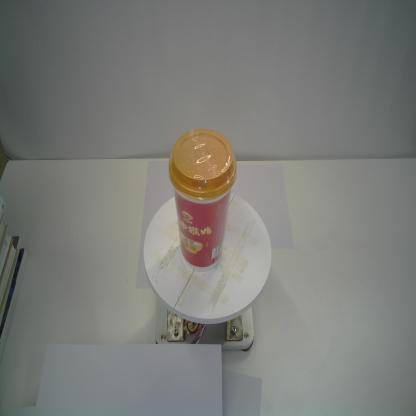Instant Drink: (168, 128, 238, 272)
